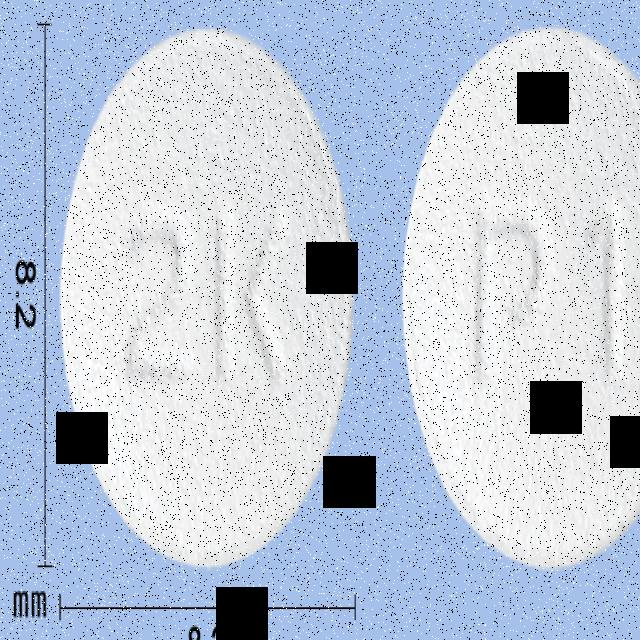Letroxin: (61, 24, 357, 572), (401, 33, 640, 569)
